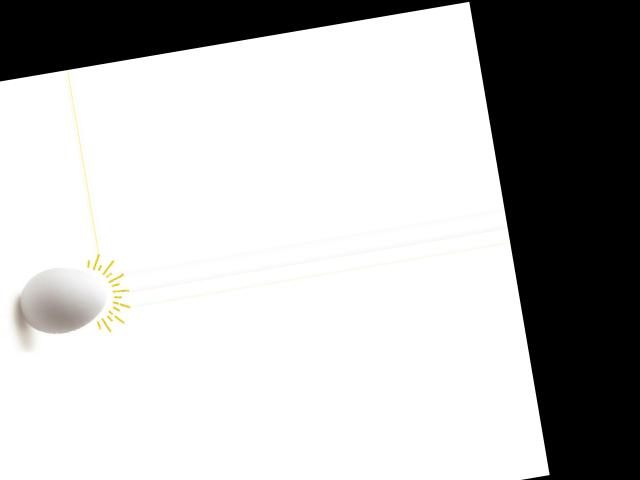egg: (15, 259, 110, 338)
